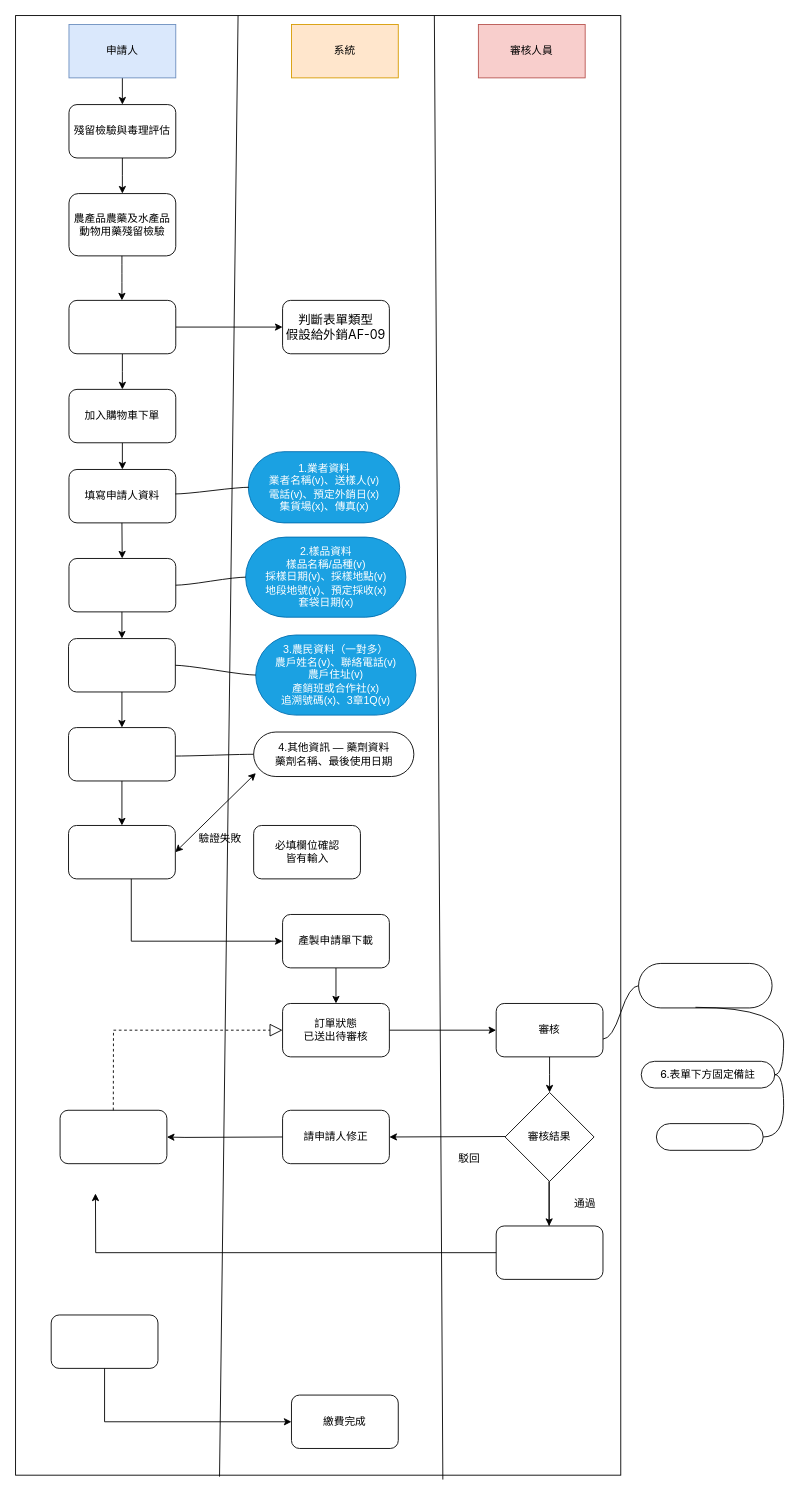
Some shapes in this 799 by 1496 pixel diagram are drawn without their labels. The shapes that lost their labels are listed below. From the top down, each one's box as (x1, y1, x2, y2) in pixels, then its label:
(68, 299, 176, 354): 細項:農藥殘留
(68, 558, 176, 612): 填寫一筆樣品資料
(68, 638, 175, 692): 填寫農民資料(1對N)
(68, 727, 175, 781): 填寫藥劑資料 動態多列，非必填
(68, 825, 175, 879): 確認並送出申請
(638, 963, 772, 1008): 5.農藥所填寫 收件日期、樣品編號
(59, 1109, 167, 1164): 修正後
(655, 1123, 763, 1150): 7.匯出申 請表
(495, 1225, 603, 1279): 審核完成 可繳費
(50, 1314, 158, 1368): 申請人繳費
